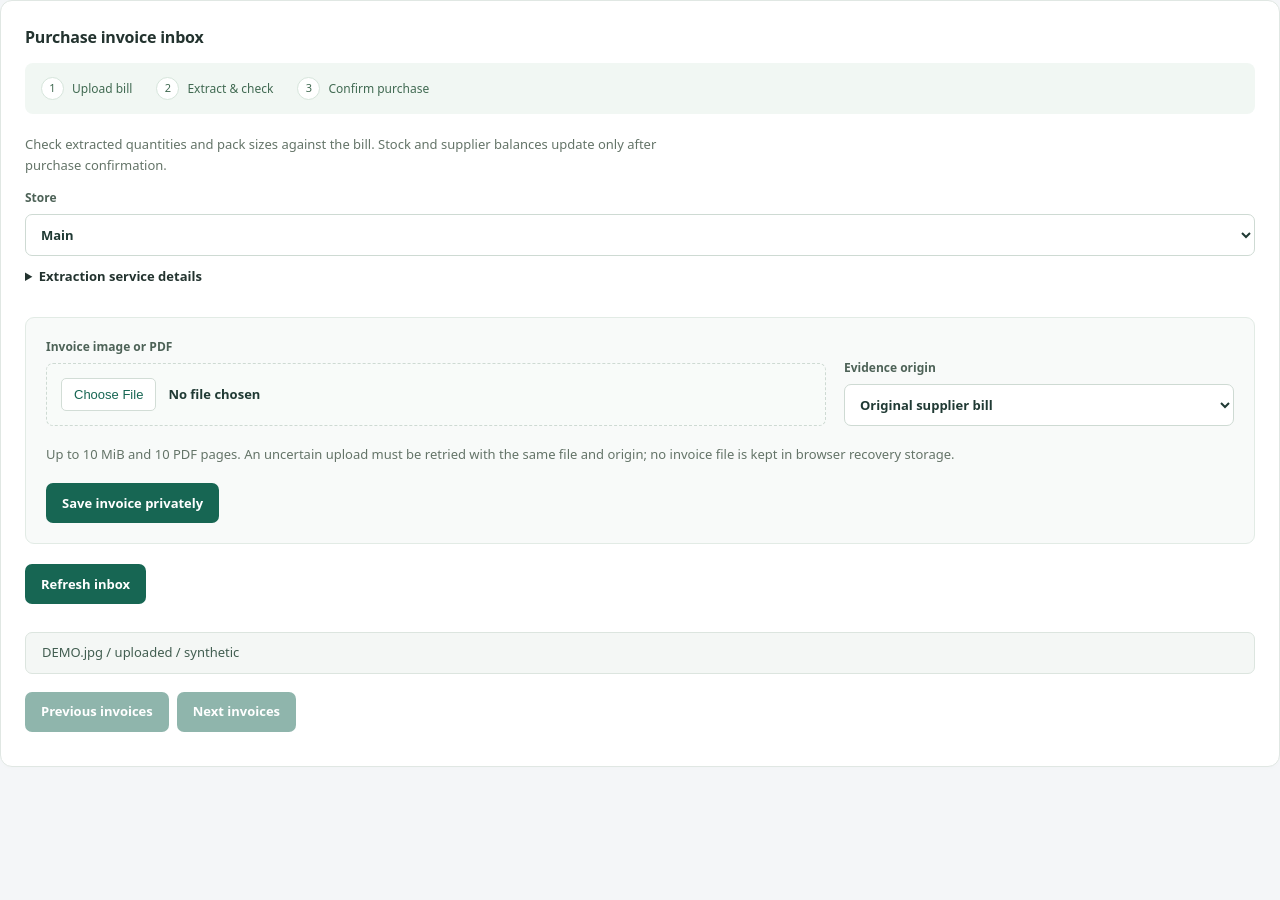
Test: private invoice inbox › renders provider text as plain evidence and requires verified mapping approval
The image size is (1280, 900).
Click the button "DEMO.jpg / uploaded / synthetic".
click(72, 652)  # box [25,632,1255,674]
(page scrolled)
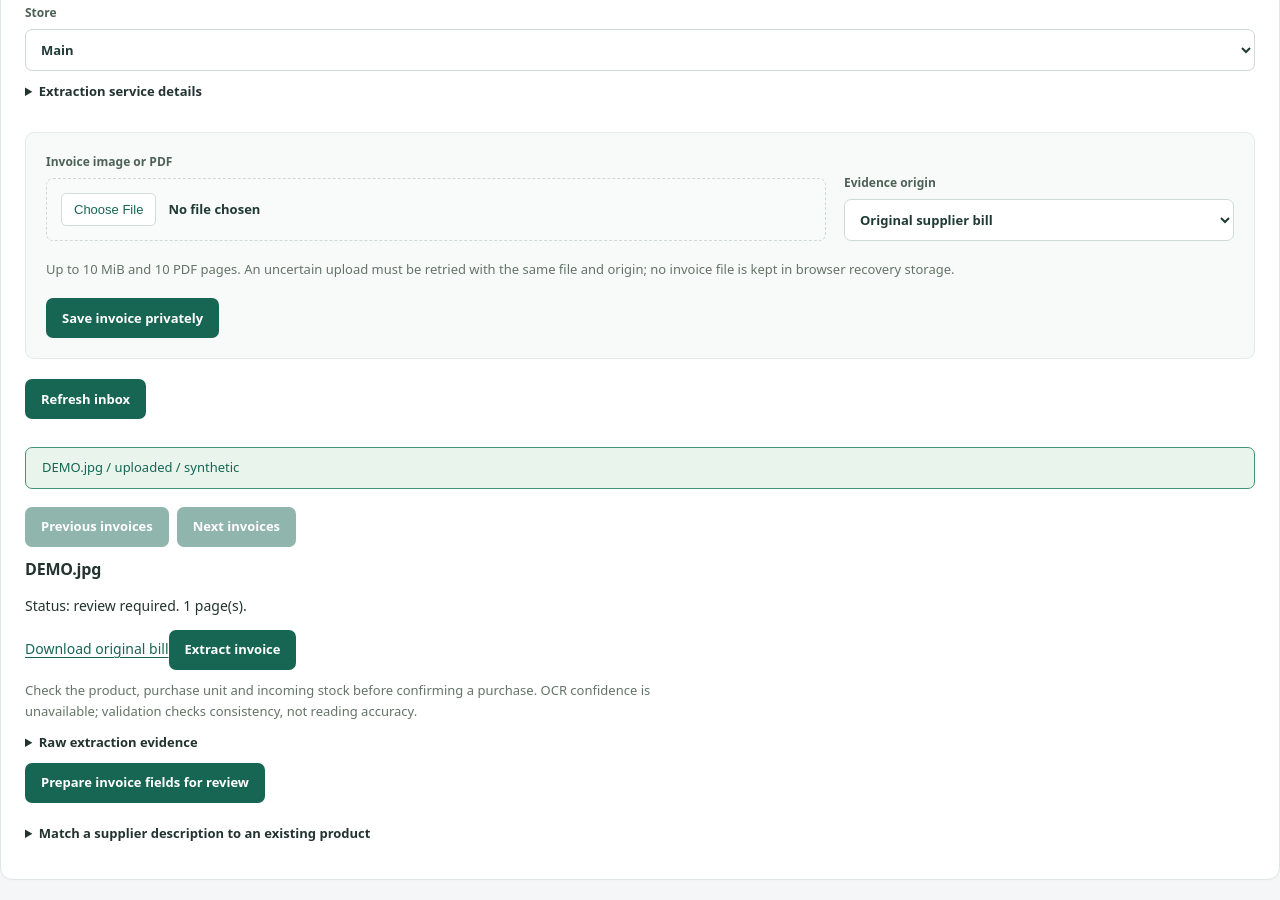
Click the heading "Match a supplier description to an existing product".
click(205, 833)  # box [39,824,370,842]
(page scrolled)
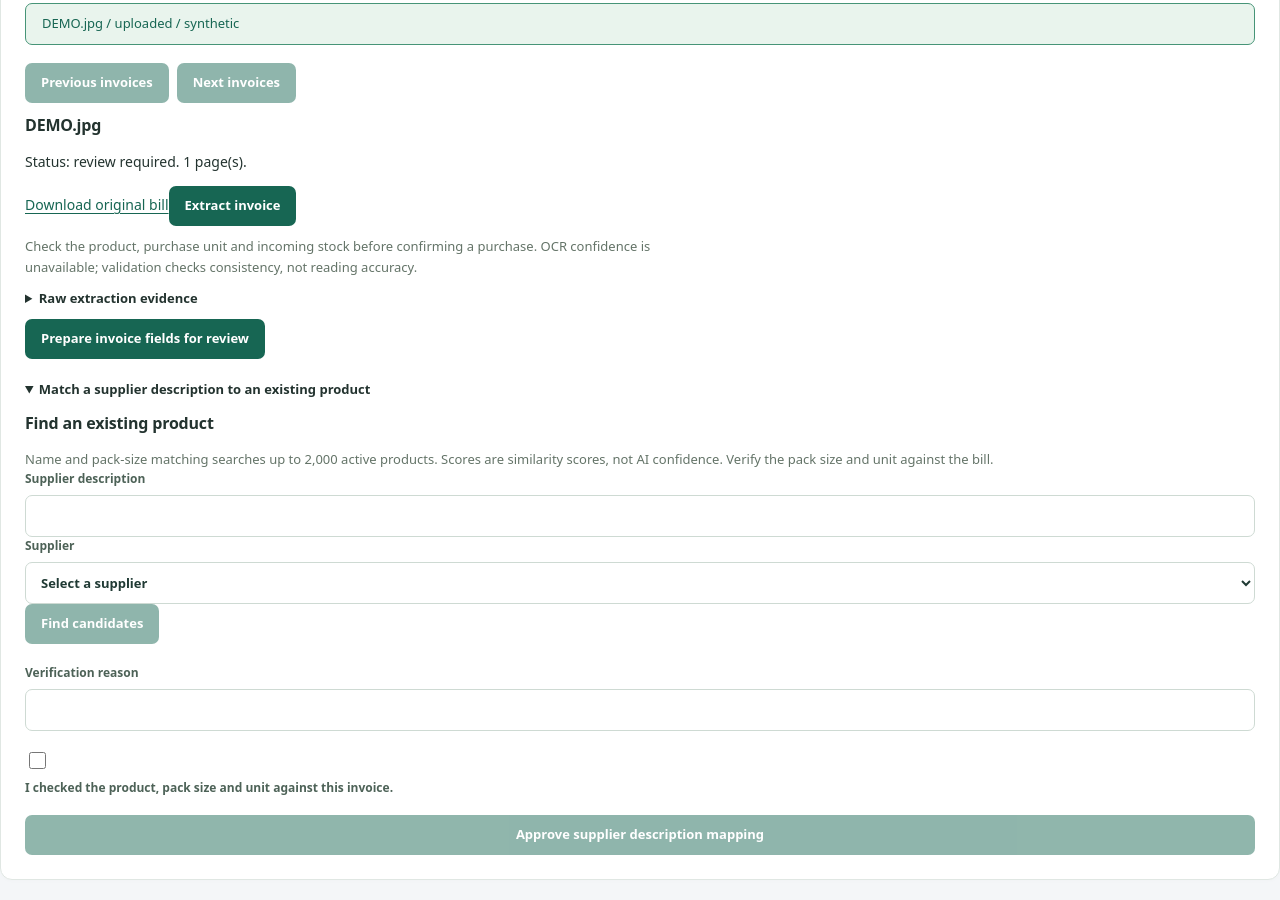
Check: the button "Approve supplier description mapping" is disabled, box [25,815,1255,855]
